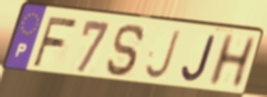7: (76, 17, 113, 75)
F: (30, 15, 80, 68)
H: (204, 33, 259, 89)
J: (143, 28, 182, 82), (179, 33, 218, 84)
S: (104, 22, 147, 79)
